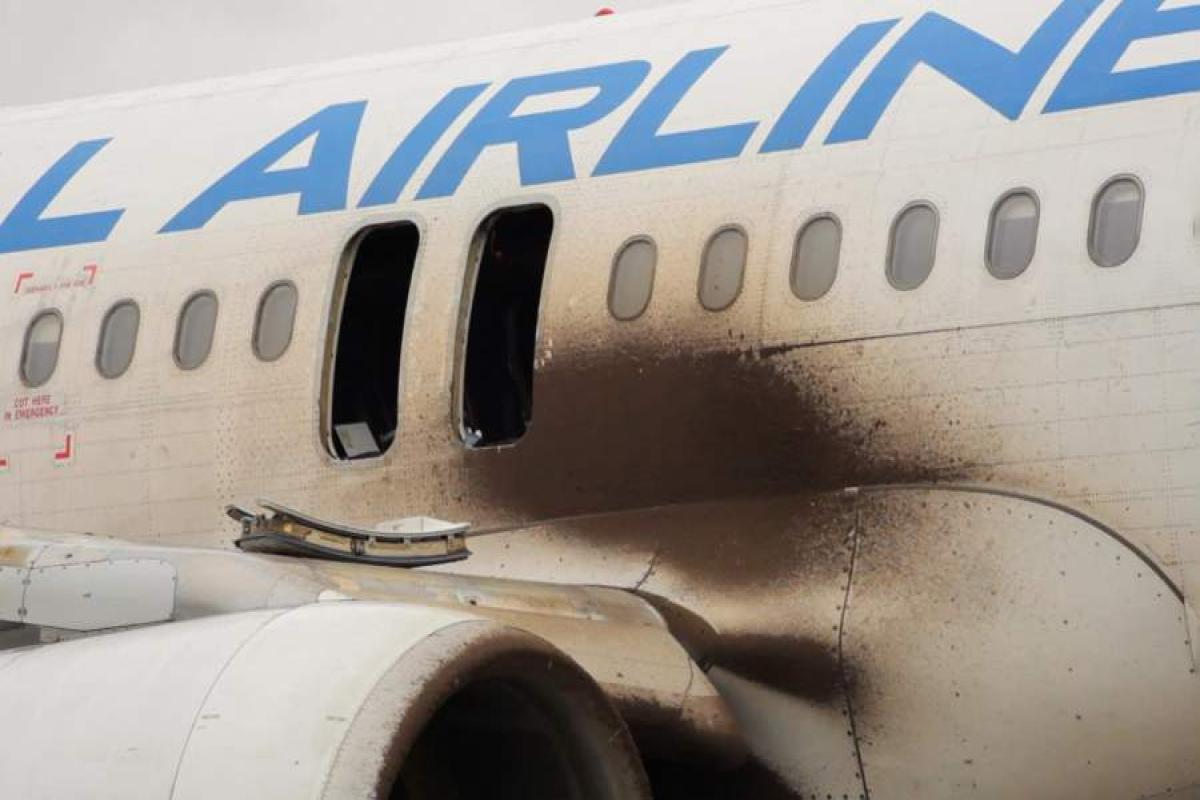Fuselage_damage: (457, 332, 989, 596), (613, 583, 859, 704), (603, 683, 794, 798), (463, 207, 552, 446), (327, 226, 417, 460), (227, 503, 469, 566)
